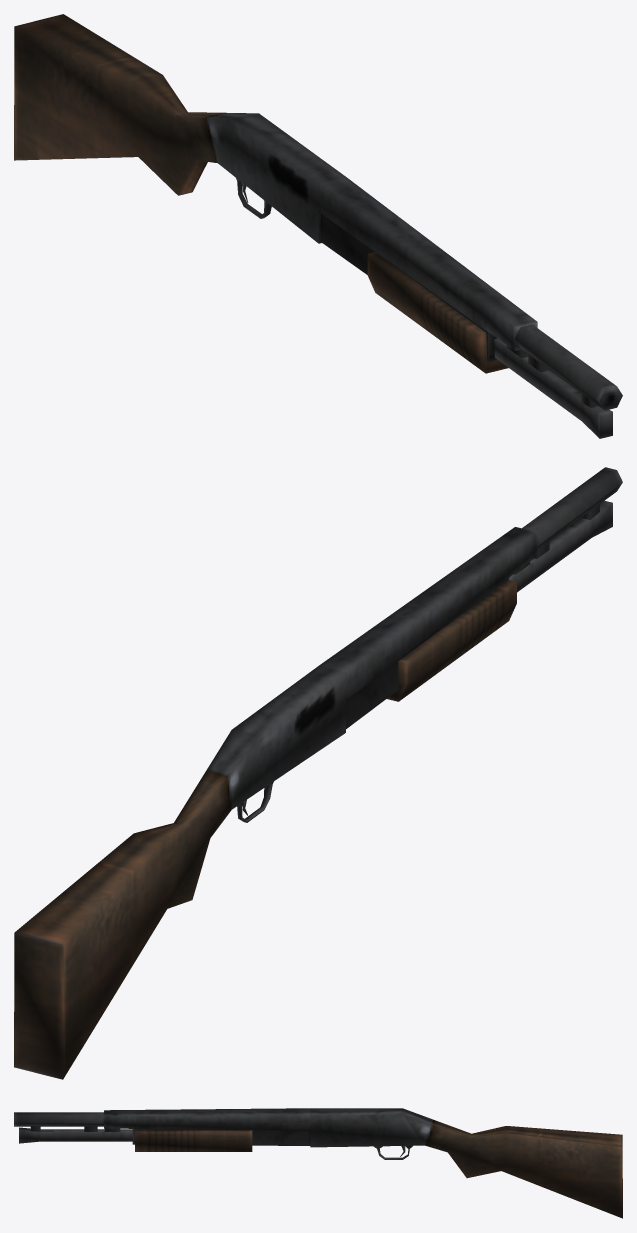
File: Shotgun.fbx
The picture shows the model from 3 angles, top to bottom: view 1: azimuth 30°, elevation 25°; view 2: azimuth 150°, elevation 25°; view 3: azimuth 270°, elevation 25°; orthographic projection. The views are drawn at different scales.
Visible parts, largest first — view 1: Shotgun; view 2: Shotgun; view 3: Shotgun.
Boxes of the visible parts, <box> form: Shotgun: <box>14,14,622,438</box>; Shotgun: <box>14,467,622,1079</box>; Shotgun: <box>14,1108,622,1218</box>.
Size of the model in its own units: 22.8 by 84.12 by 461.
